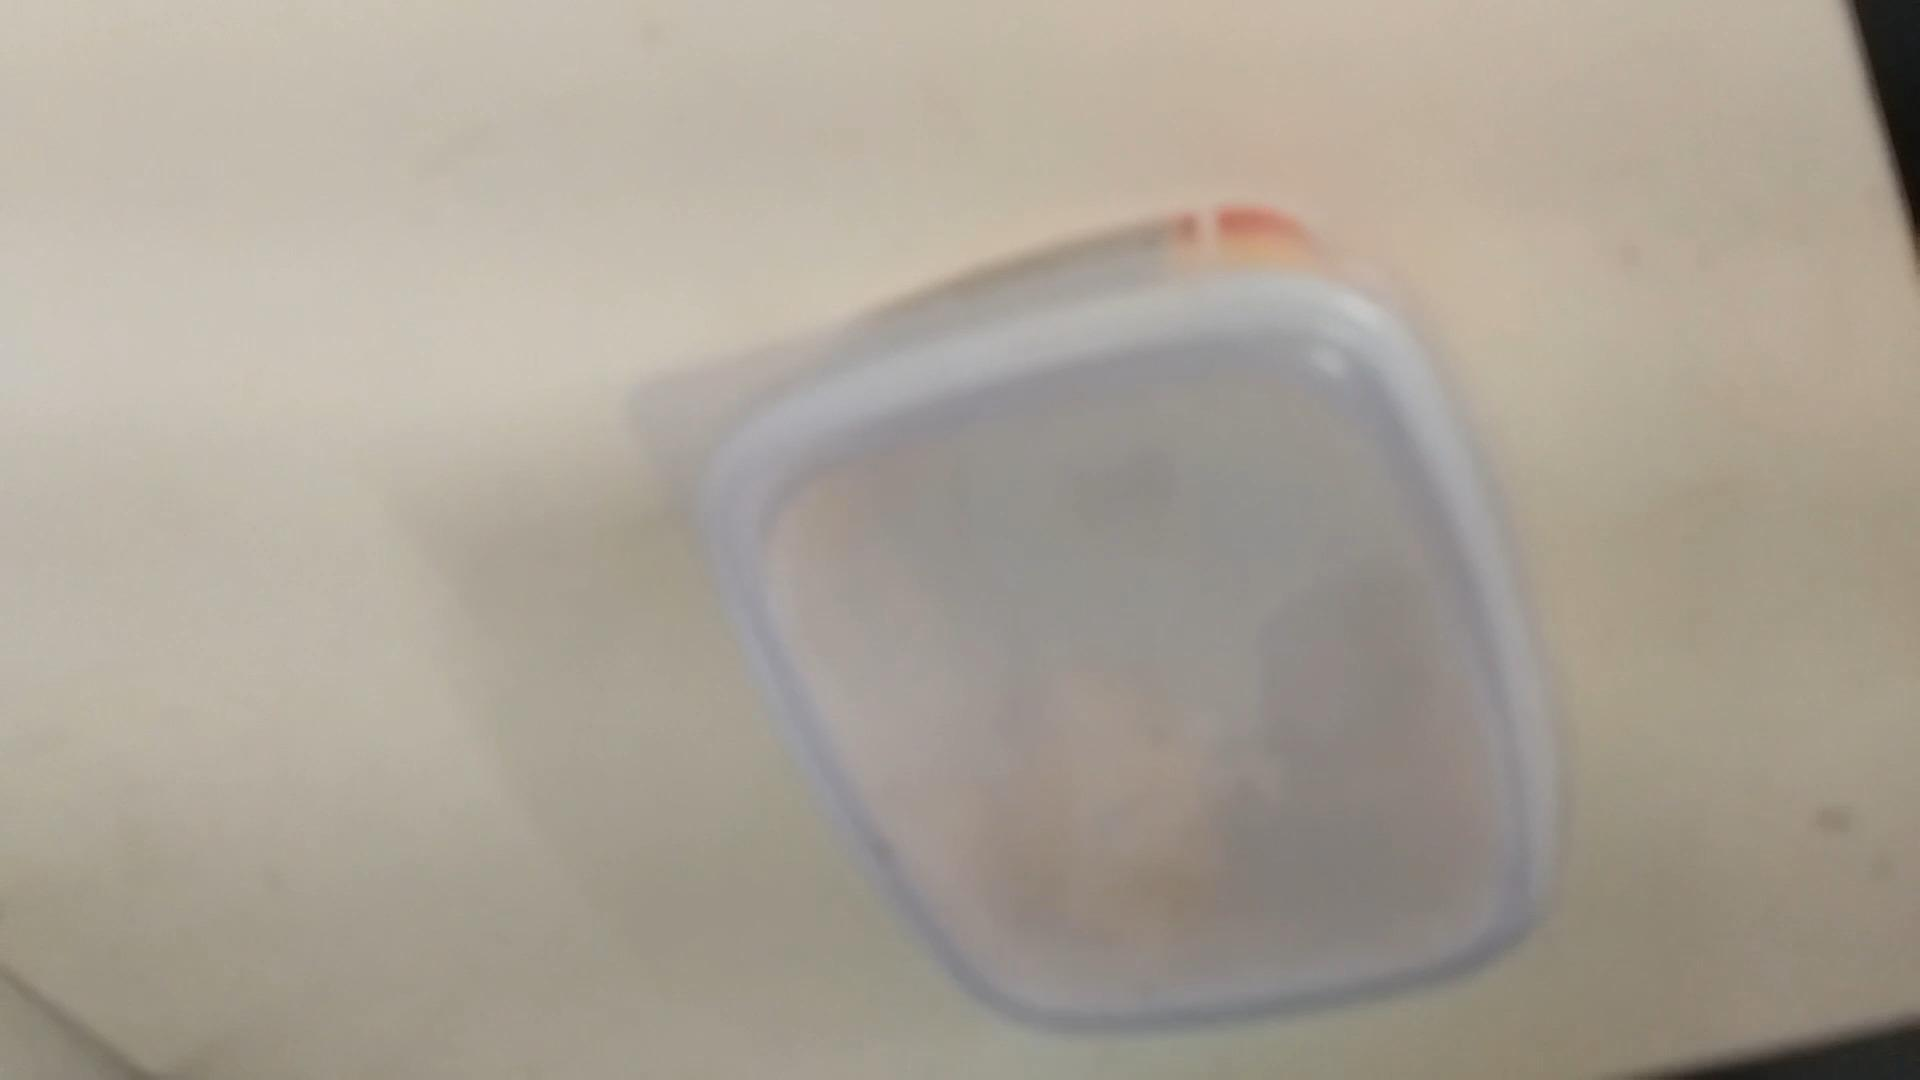butter: (690, 235, 1561, 1042)
